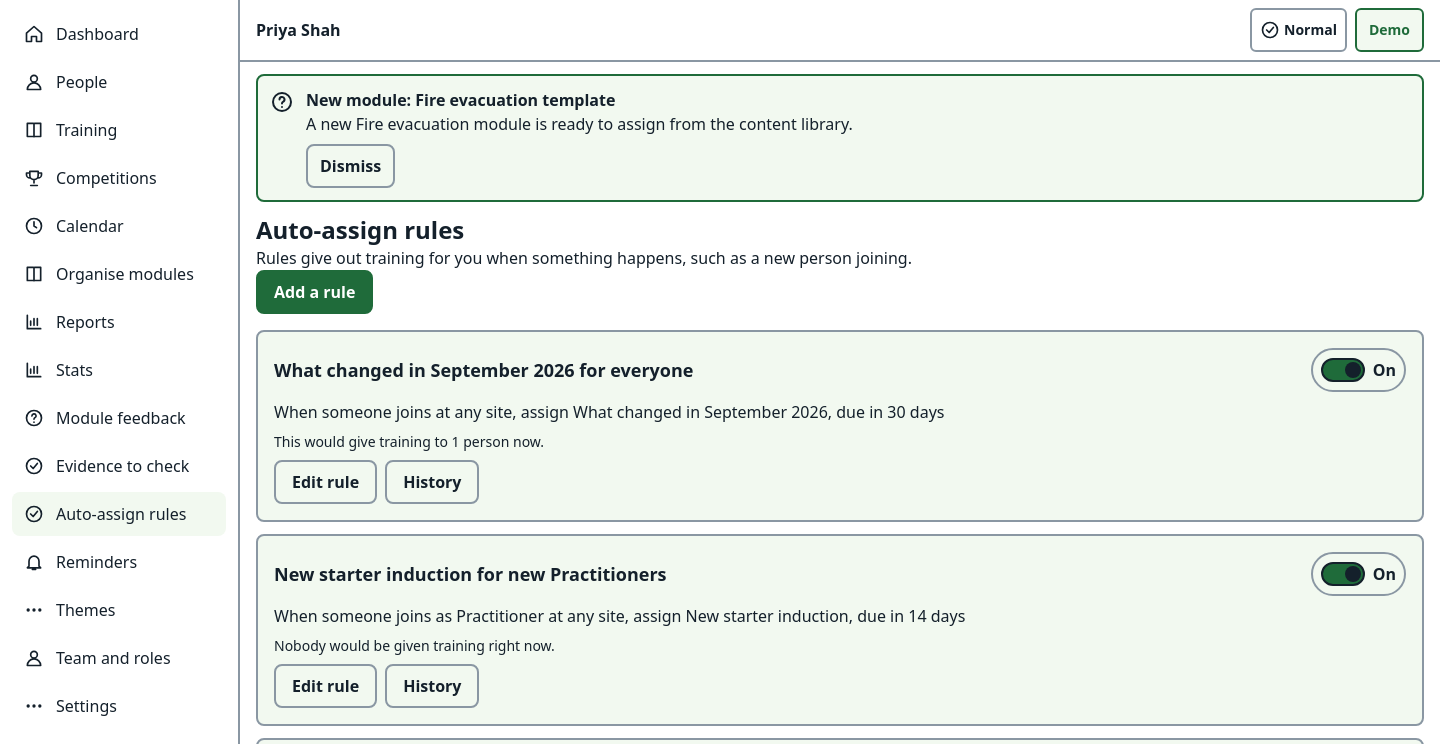
Test: C5 Auto-assign rules › adds a rule through the editor and shows its sentence
Expected: the heading "Auto-assign rules" is shown, [256,214,464,246]
Click the button "Add a rule" at (315, 292), box [256,270,373,314]
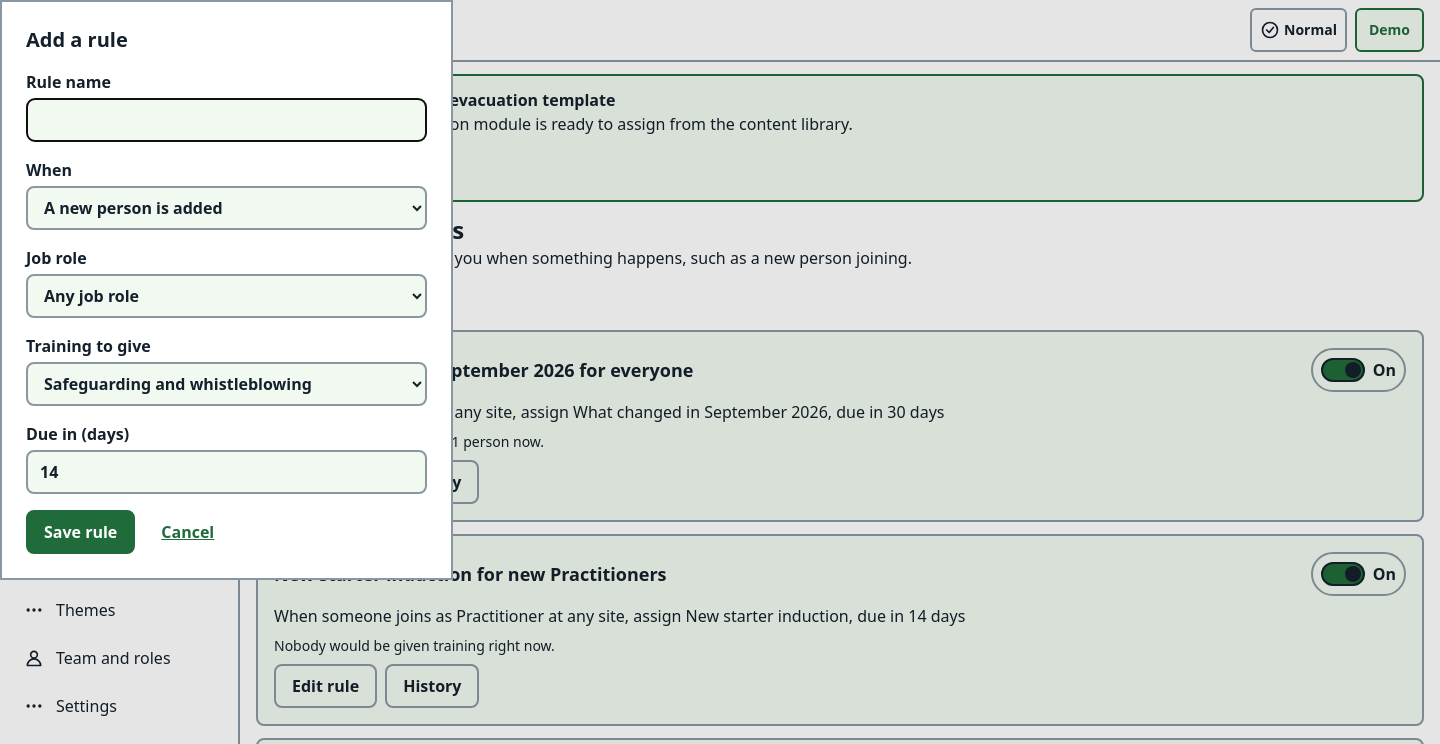
Type "Room Leader induction" into the field labelled "Rule name" at (226, 120), box [26,98,427,142]
Select "A person's job role changes" in the dropdown labelled "When" at (226, 208), box [26,186,427,230]
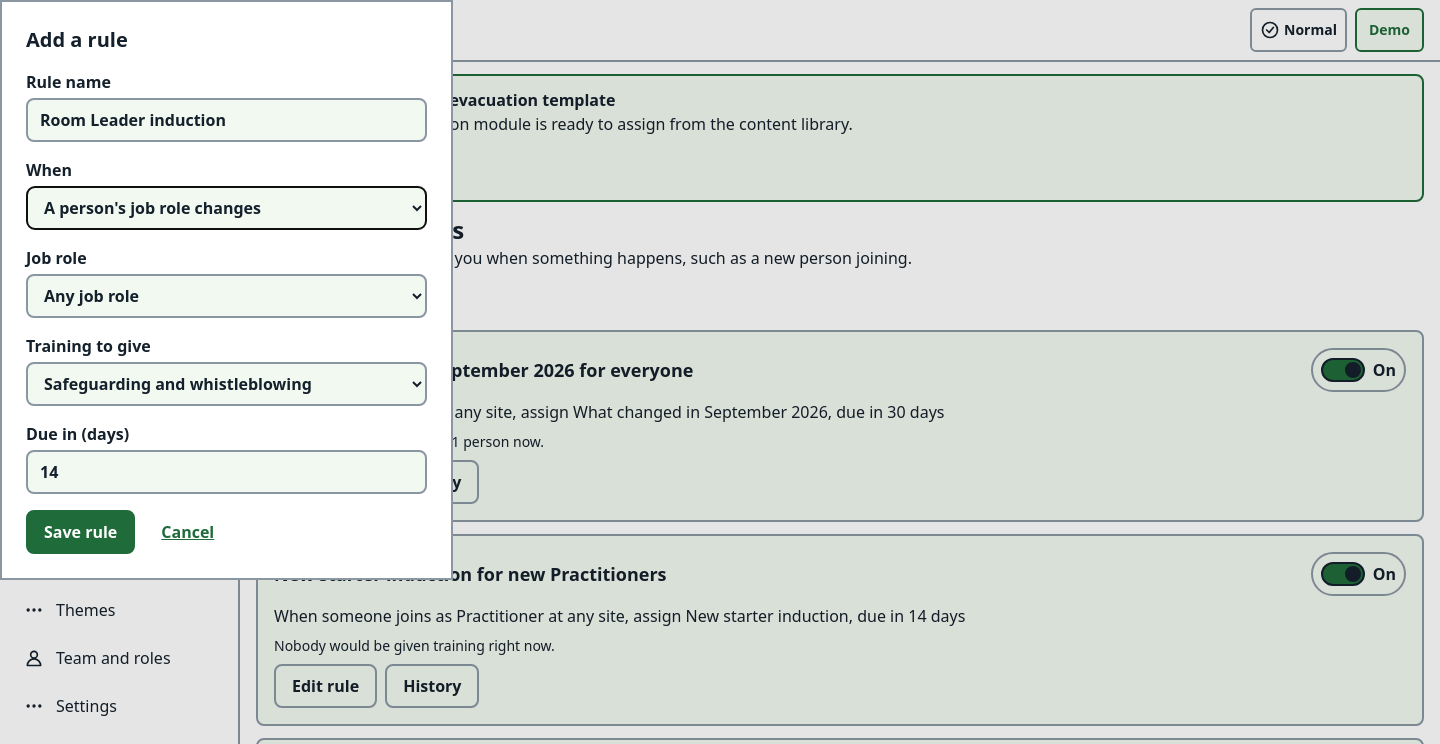
Select "Room Leader" in the dropdown labelled "Job role" at (226, 296), box [26,274,427,318]
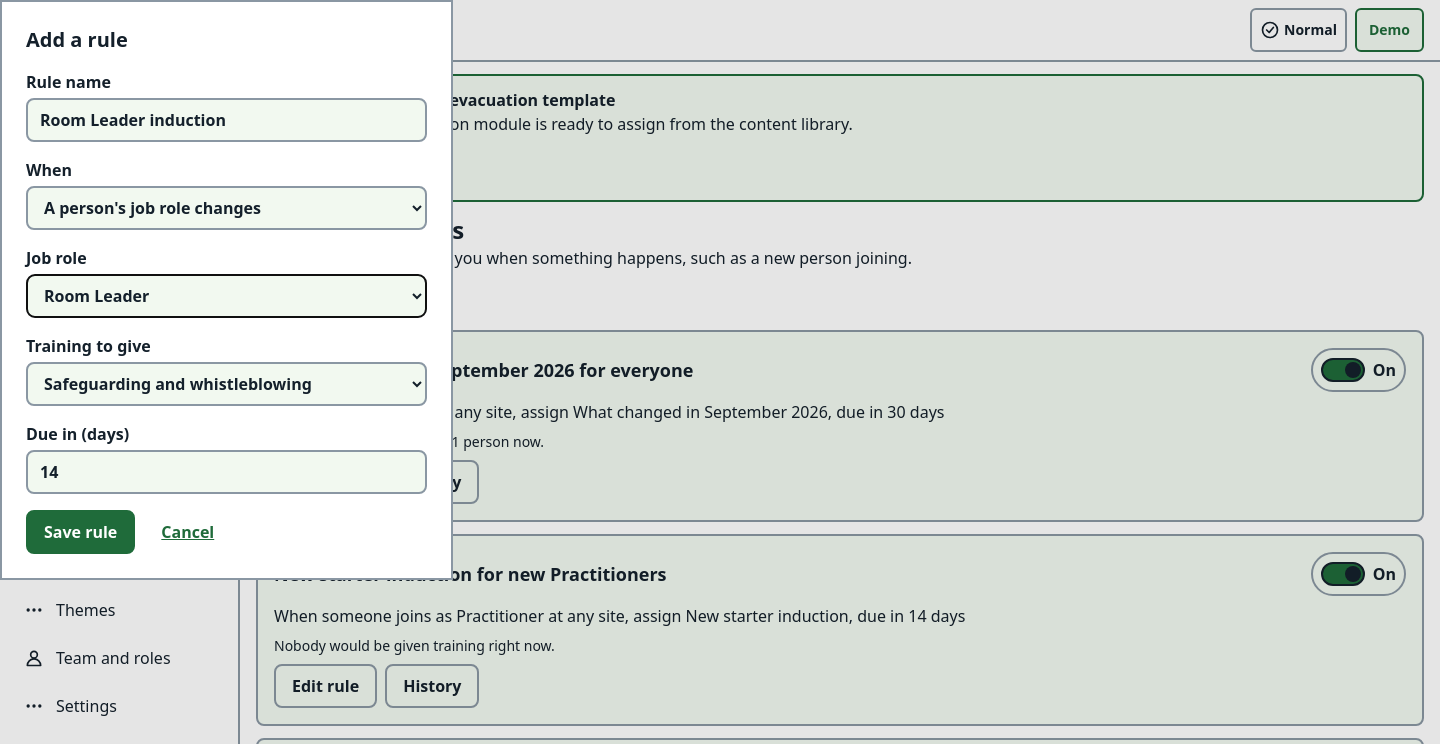
Select "Safer sleep" in the dropdown labelled "Training to give" at (226, 384), box [26,362,427,406]
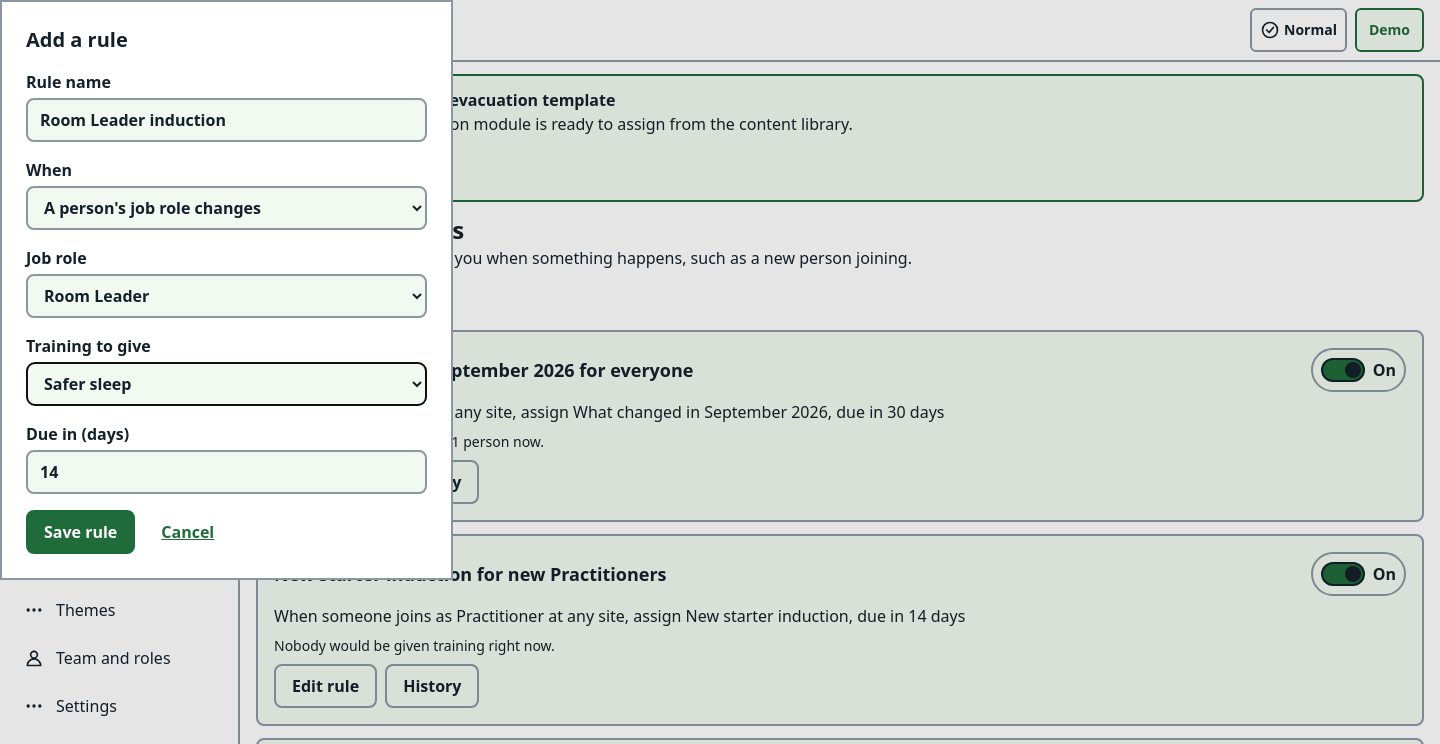
Replace the text in the number field labelled "Due in (days)" with "21" at (226, 472), box [26,450,427,494]
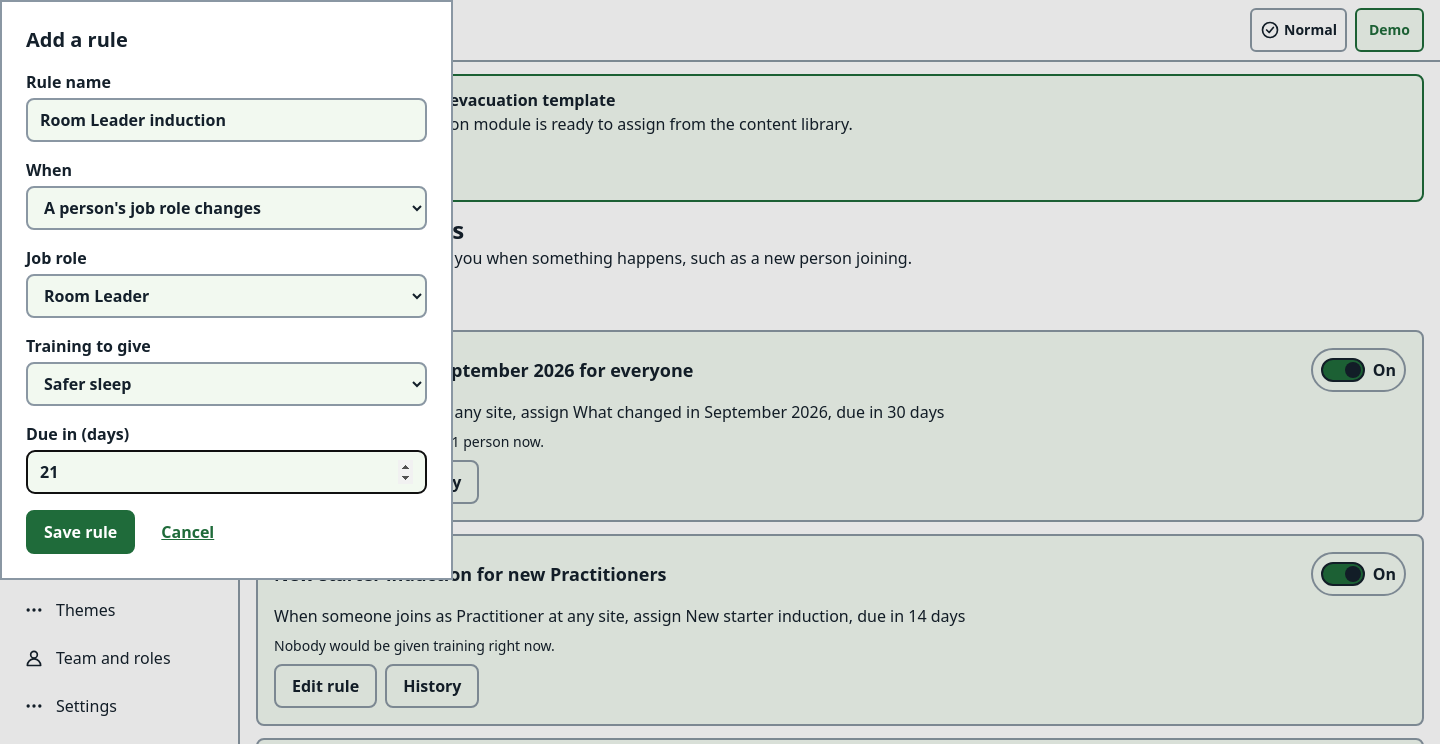
Click the button "Save rule" at (81, 532), box [26,510,135,554]
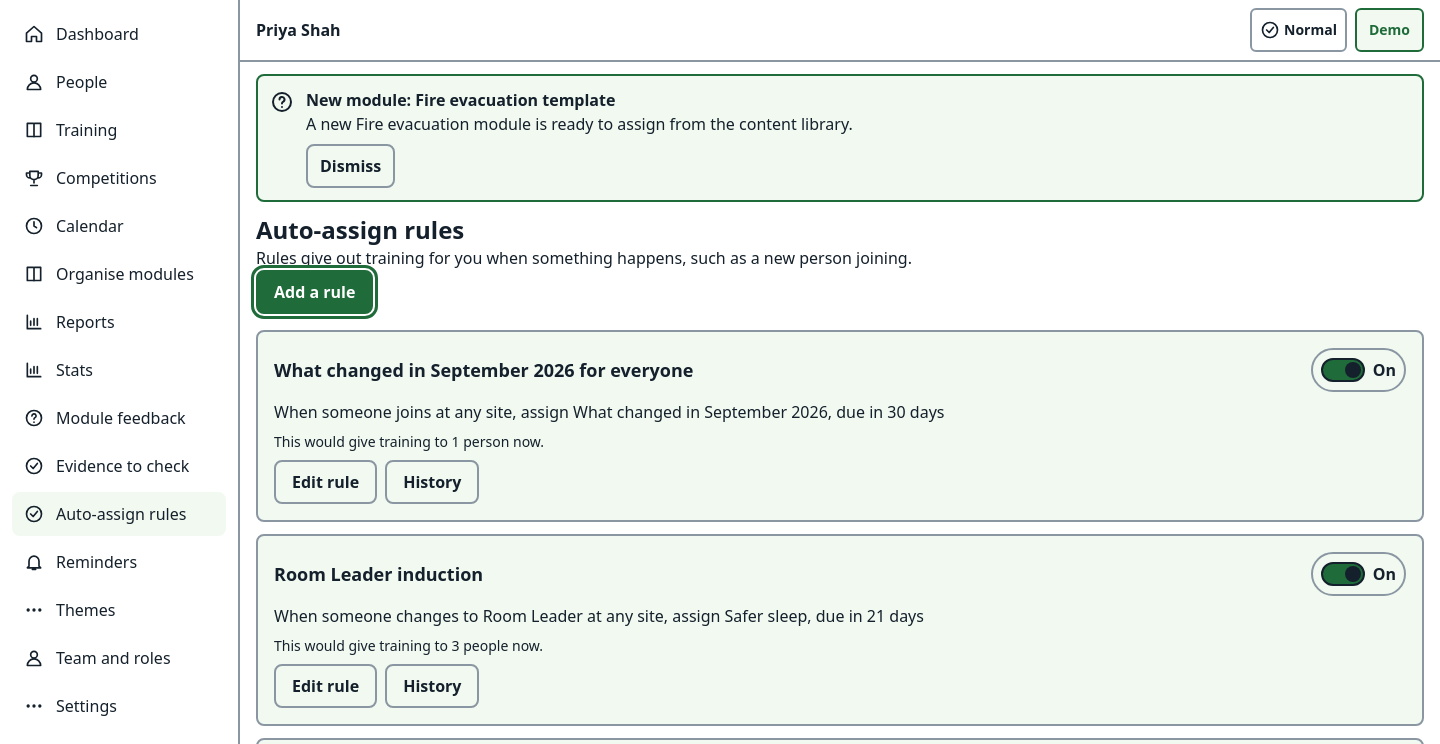
Result: the heading "Room Leader induction" is shown at [274,560,483,588]
